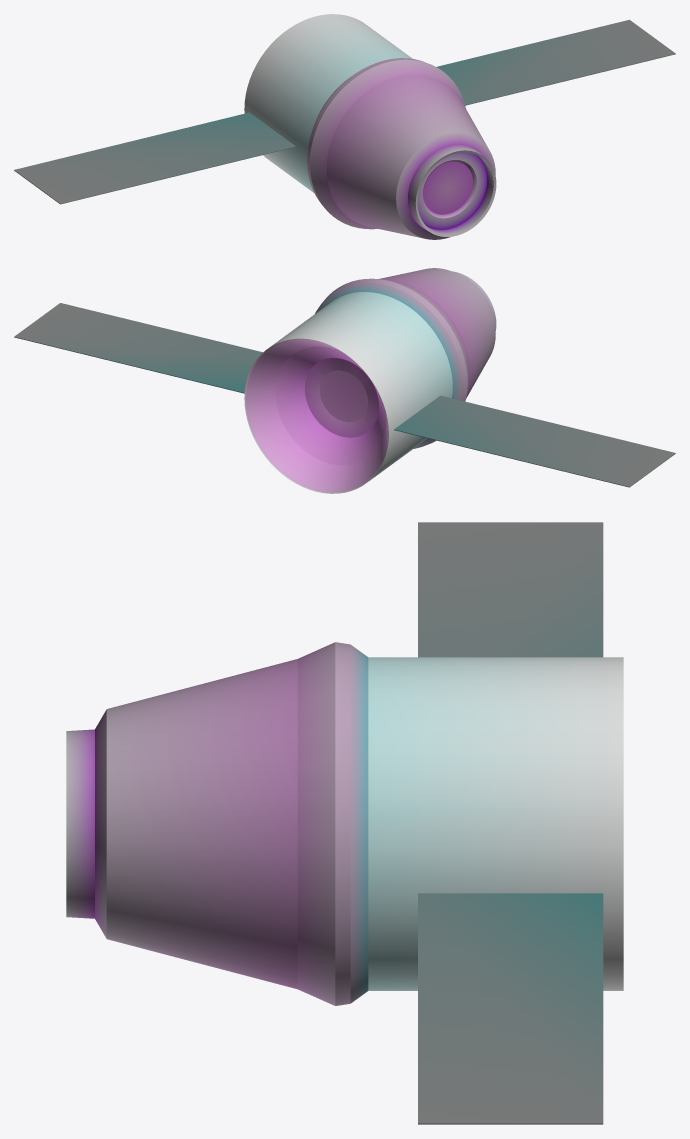
The picture shows the model from 3 angles, top to bottom: view 1: azimuth 30°, elevation 25°; view 2: azimuth 150°, elevation 25°; view 3: azimuth 270°, elevation 25°; orthographic projection. The views are drawn at different scales.
Visible parts, largest first — view 1: tapered_end, sleeve, wing, wing.001; view 2: sleeve, wing, wing.001, tapered_end; view 3: tapered_end, sleeve, wing.001, wing.
Boxes of the visible parts, x1,y1,x2,y2 form: tapered_end: (307,58,496,239); sleeve: (244,14,412,192); wing: (14,112,295,204); wing.001: (436,19,675,105); sleeve: (244,292,452,493); wing: (394,395,675,487); wing.001: (14,303,262,393); tapered_end: (315,268,496,448); tapered_end: (66,642,368,1005); sleeve: (368,657,623,990); wing.001: (418,893,603,1124); wing: (418,522,603,657).
Size of the model in its own units: 6 by 1.54 by 2.35.
